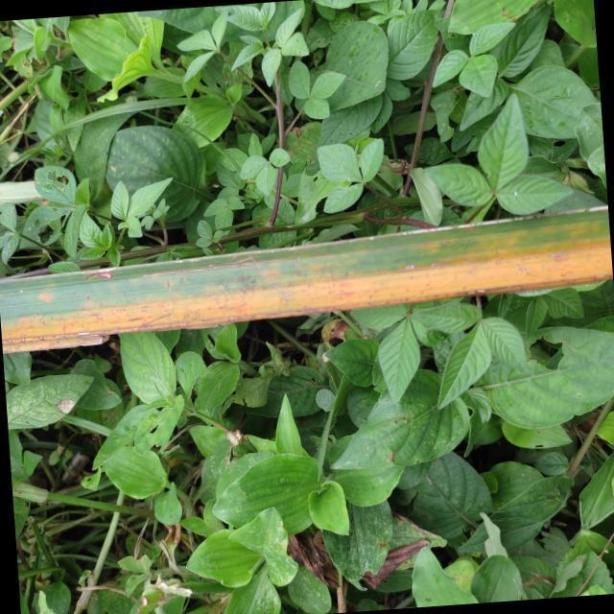Megnesium: (0, 200, 614, 353)
